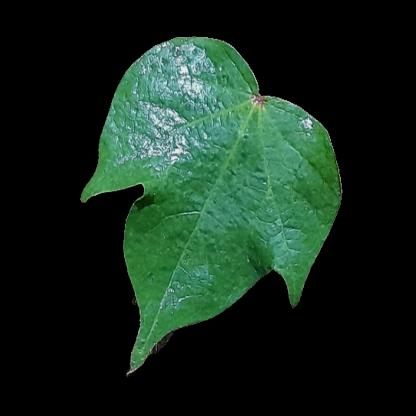curl_stage2: (136, 60, 245, 119)
healthy: (144, 125, 322, 234), (145, 243, 227, 308)
